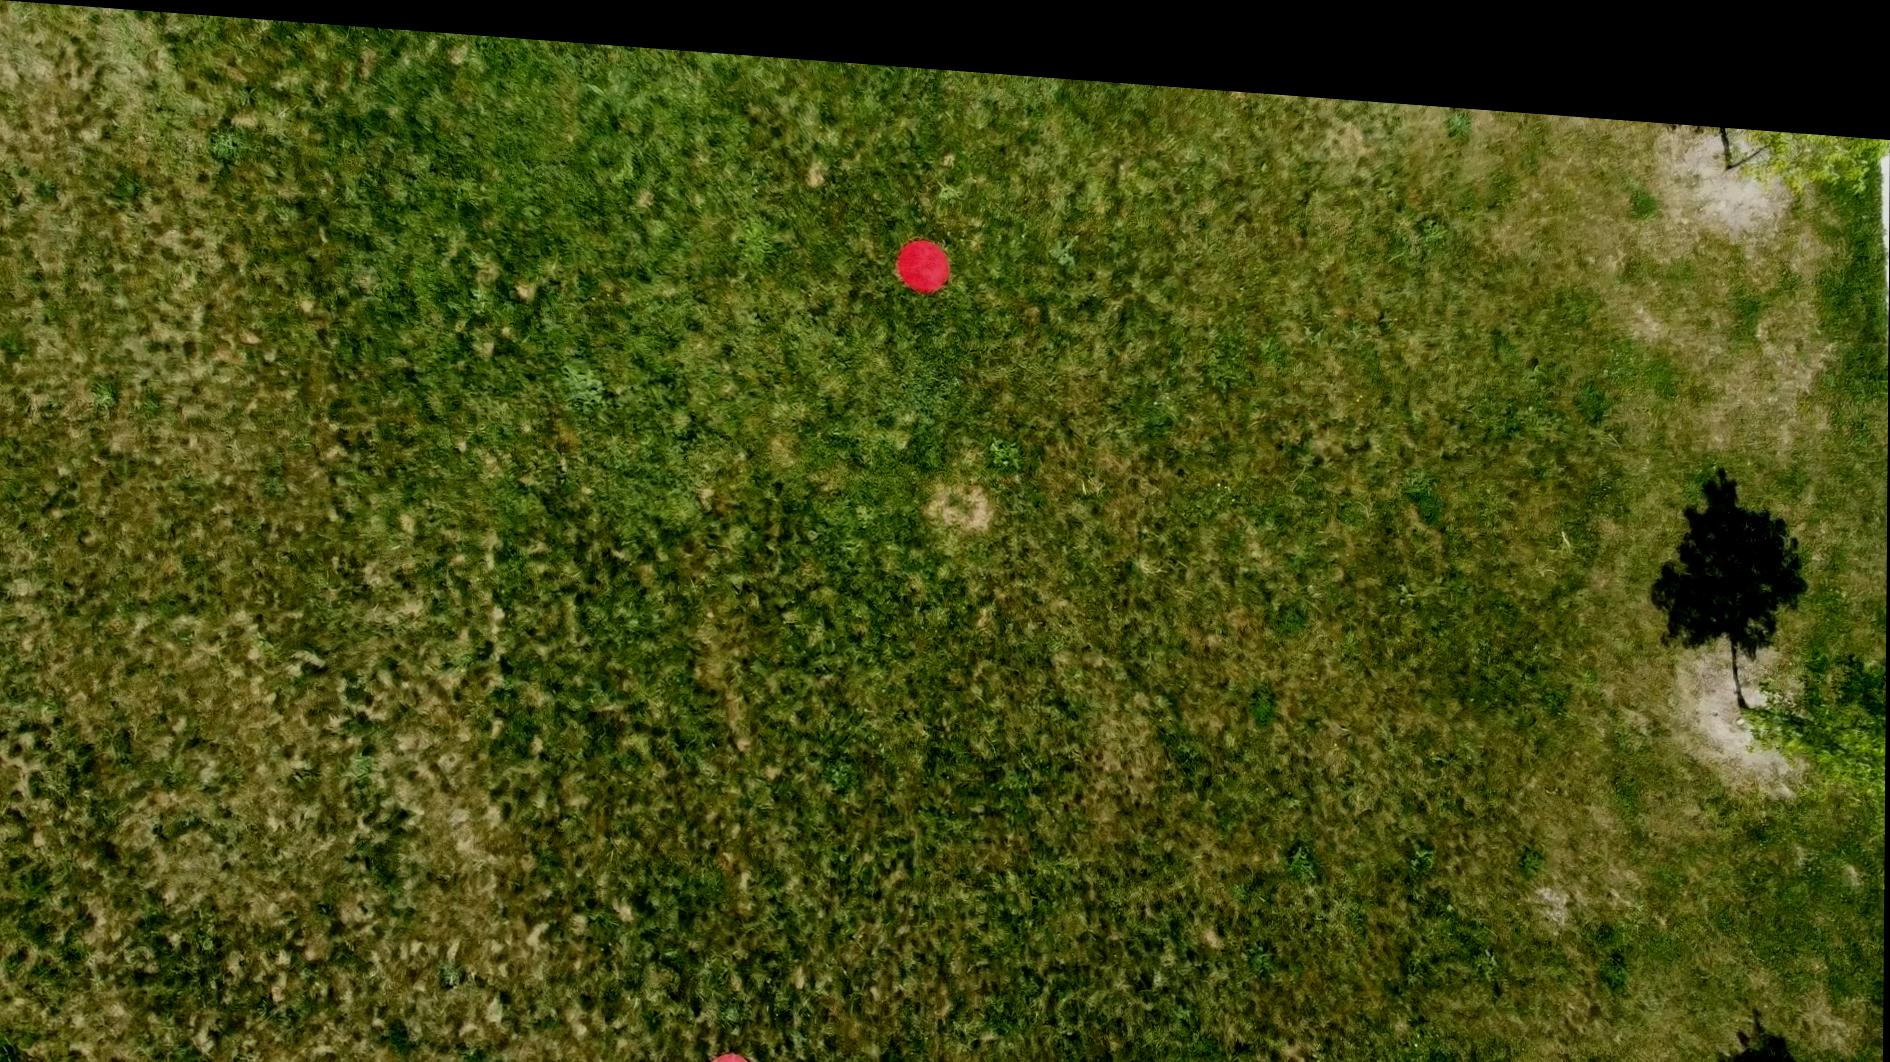Red: (893, 222, 951, 283), (702, 1036, 759, 1062)
